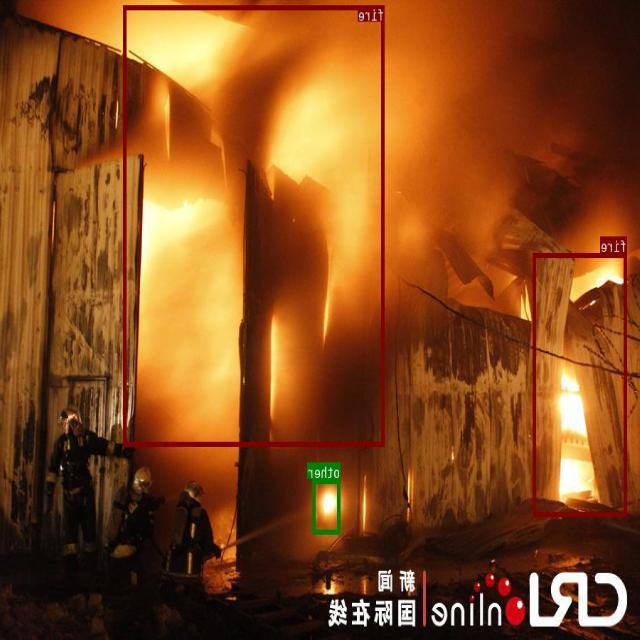fire: (124, 4, 385, 446), (534, 252, 628, 516)
other: (313, 478, 341, 534)
